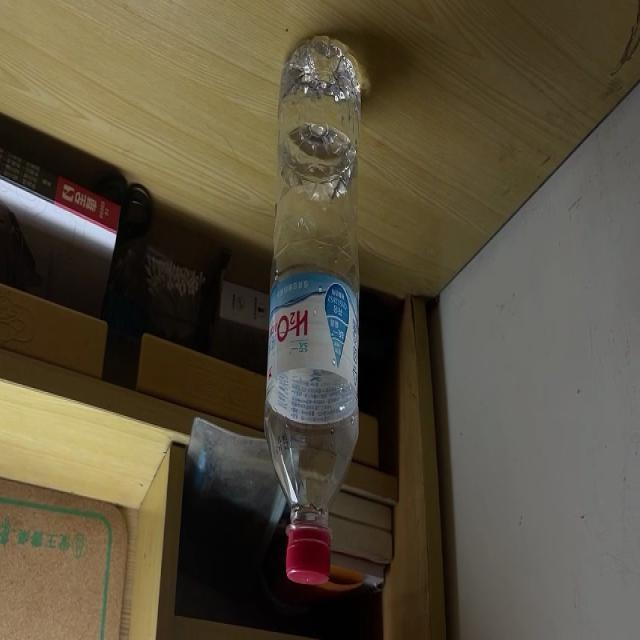Water: (265, 35, 361, 585)
